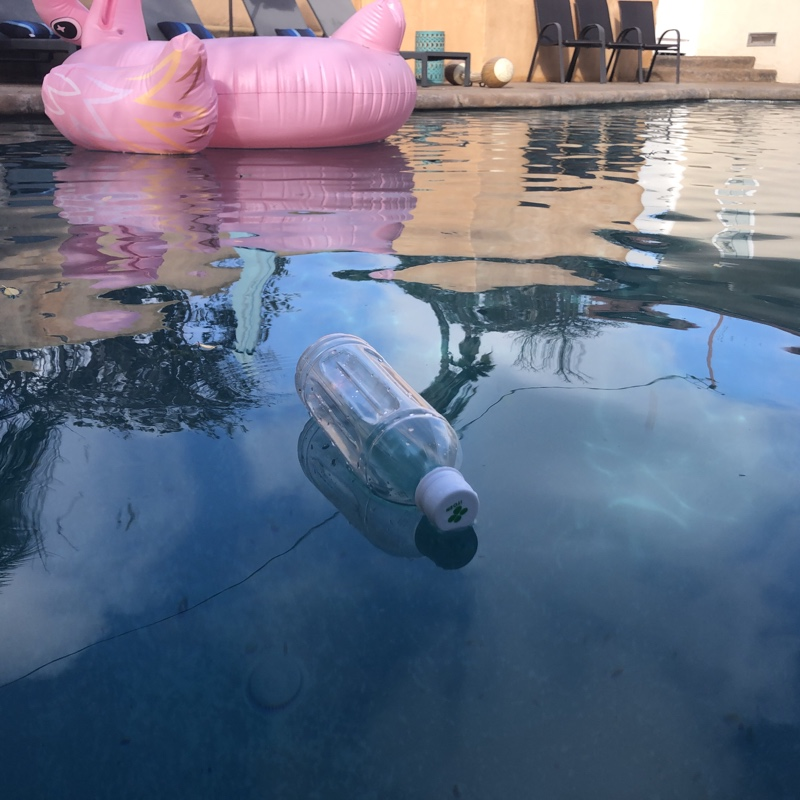Plastic Bottle: (291, 328, 482, 538)
